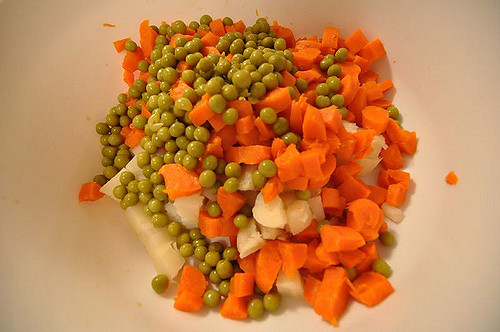boiled peas: (121, 130, 204, 167), (179, 235, 234, 280), (151, 63, 189, 97)
